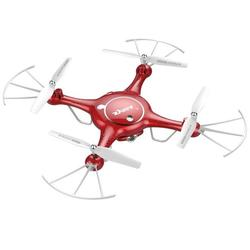drone: (2, 38, 248, 200)
